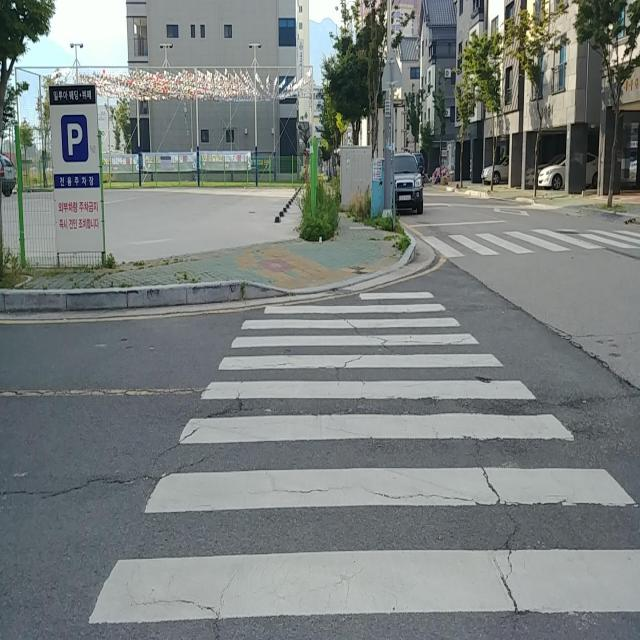횡단보도: (85, 288, 640, 625), (423, 227, 640, 261)
